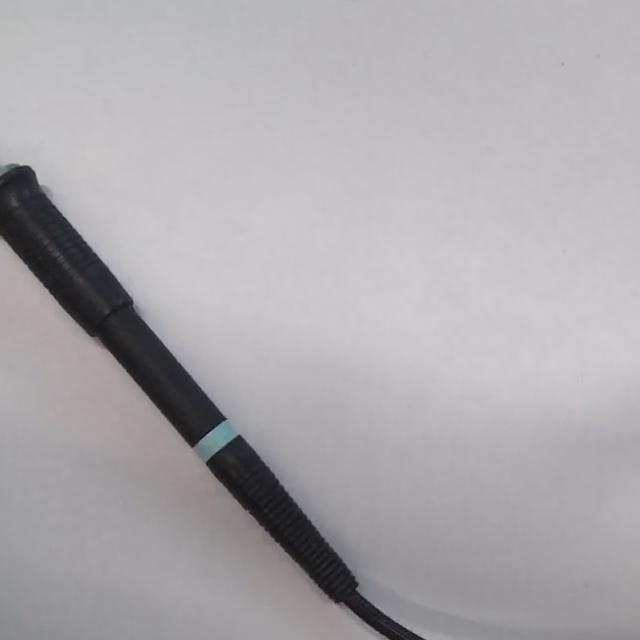soldering_iron: (0, 165, 420, 640)
